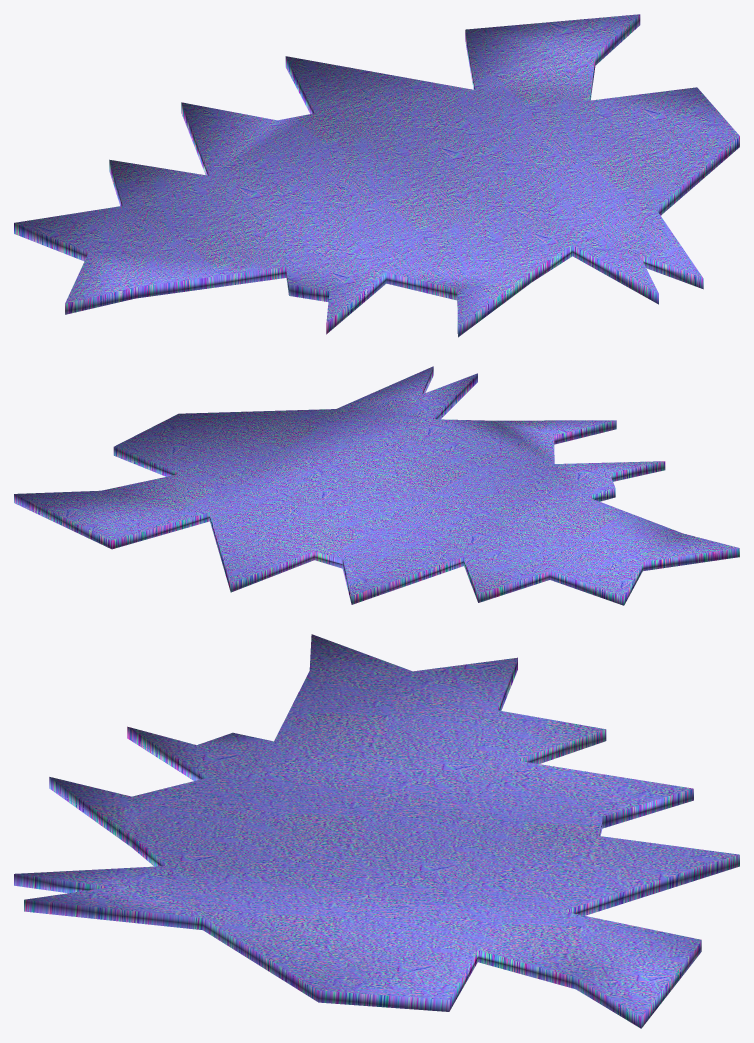
File: Mud.fbx
The picture shows the model from 3 angles, top to bottom: view 1: azimuth 30°, elevation 25°; view 2: azimuth 150°, elevation 25°; view 3: azimuth 270°, elevation 25°; orthographic projection. The views are drawn at different scales.
Parts seen in each view (by area): view 1: Circle; view 2: Circle; view 3: Circle.
Part boxes in pixels (x1,y1,x2,y2): Circle: [14, 14, 739, 337]; Circle: [14, 366, 739, 605]; Circle: [14, 634, 739, 1028].
Size of the model in its own units: 378 by 5.45 by 303.
